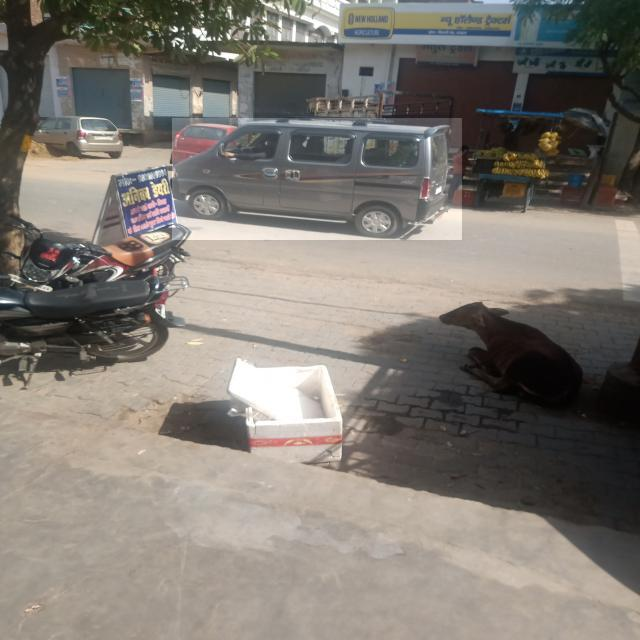Travller: (172, 118, 462, 240)
